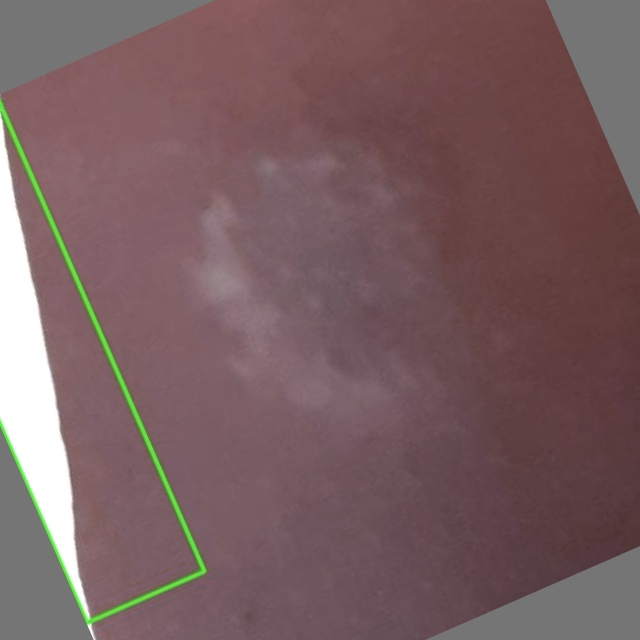Contact Dermatitis: (0, 101, 206, 623)
